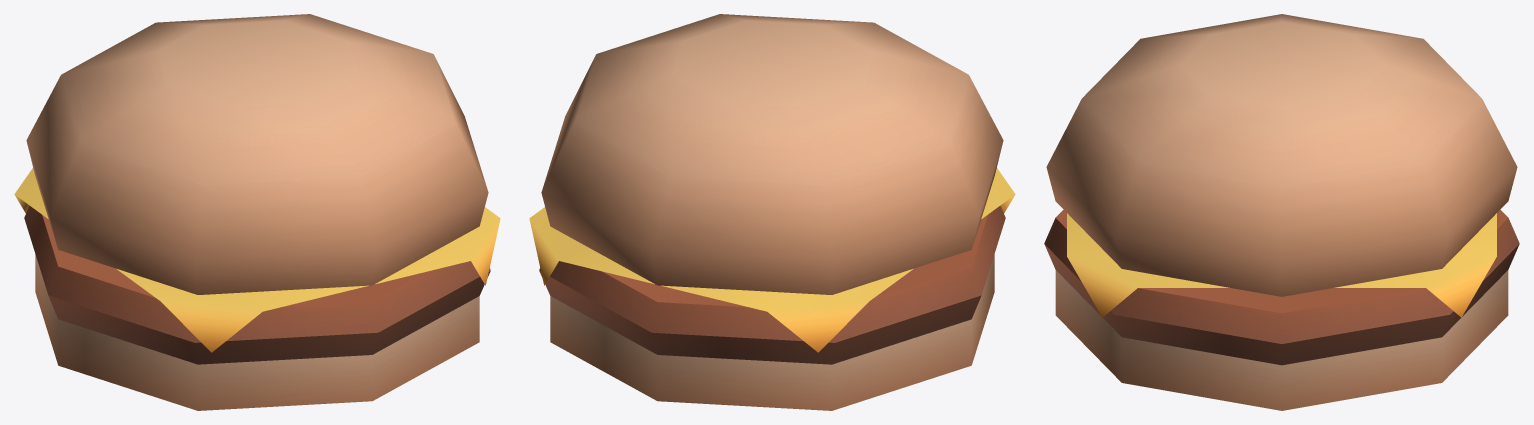
The model's file is food.burger_cheese.glb.
The picture shows the model from 3 angles, left to right: view 1: azimuth 30°, elevation 25°; view 2: azimuth 150°, elevation 25°; view 3: azimuth 270°, elevation 25°; orthographic projection.
Parts seen in each view (by area): view 1: bun-top, patty, bun-bottom, cheese; view 2: bun-top, patty, bun-bottom, cheese; view 3: bun-top, patty, bun-bottom, cheese.
Part boxes in pixels (box(x1,y1,x2,y2)): bun-top: box(26, 14, 488, 294); patty: box(24, 206, 490, 364); bun-bottom: box(35, 254, 479, 410); cheese: box(14, 168, 500, 352); bun-top: box(541, 14, 1003, 294); patty: box(539, 206, 1005, 364); bun-bottom: box(550, 254, 994, 410); cheese: box(529, 168, 1015, 352); bun-top: box(1046, 14, 1517, 296); patty: box(1044, 209, 1519, 365); bun-bottom: box(1055, 270, 1508, 410); cheese: box(1067, 213, 1496, 317).
Bounding box in the file's own units: 0.1123 × 0.0653 × 0.1123.
1 material, 1 textured.
